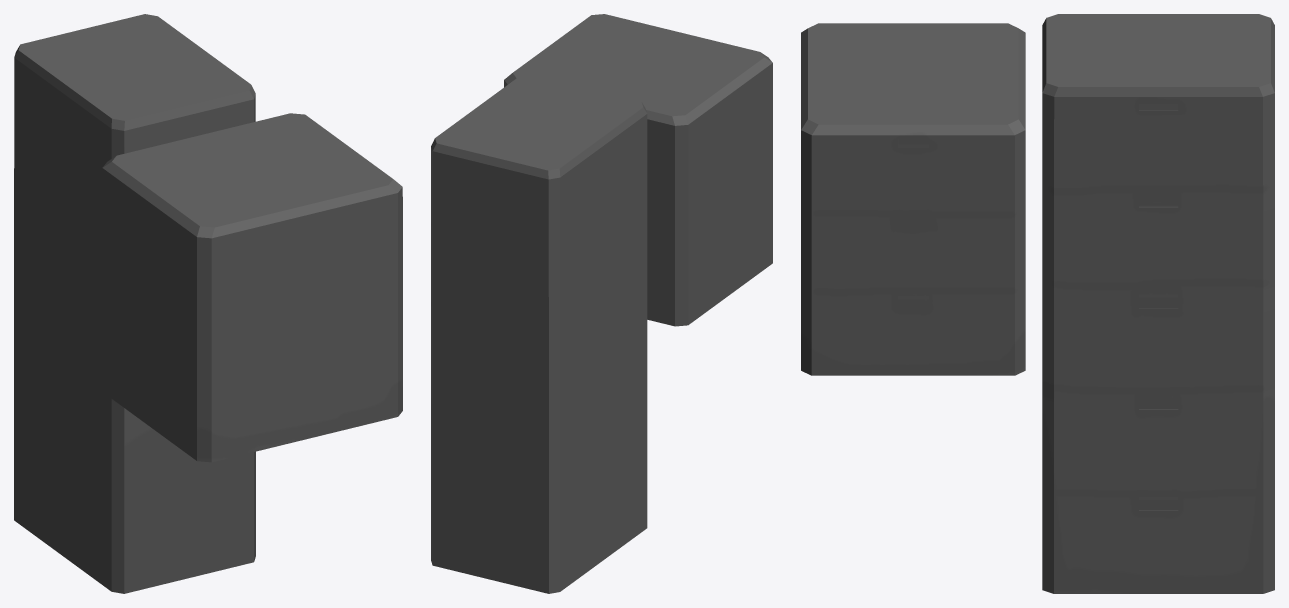
File: 3Cabinets.fbx
3 renders of one model, left to right at view 1: azimuth 30°, elevation 25°; view 2: azimuth 150°, elevation 25°; view 3: azimuth 270°, elevation 25°, orthographic. The views are drawn at different scales.
Parts seen in each view (by area): view 1: 3Cabinets; view 2: 3Cabinets; view 3: 3Cabinets.
Part boxes in pixels (x1,y1,x2,y2): 3Cabinets: (14, 14, 402, 593); 3Cabinets: (431, 14, 772, 593); 3Cabinets: (801, 14, 1274, 593).
Size of the model in its own units: 285 by 624 by 530.
